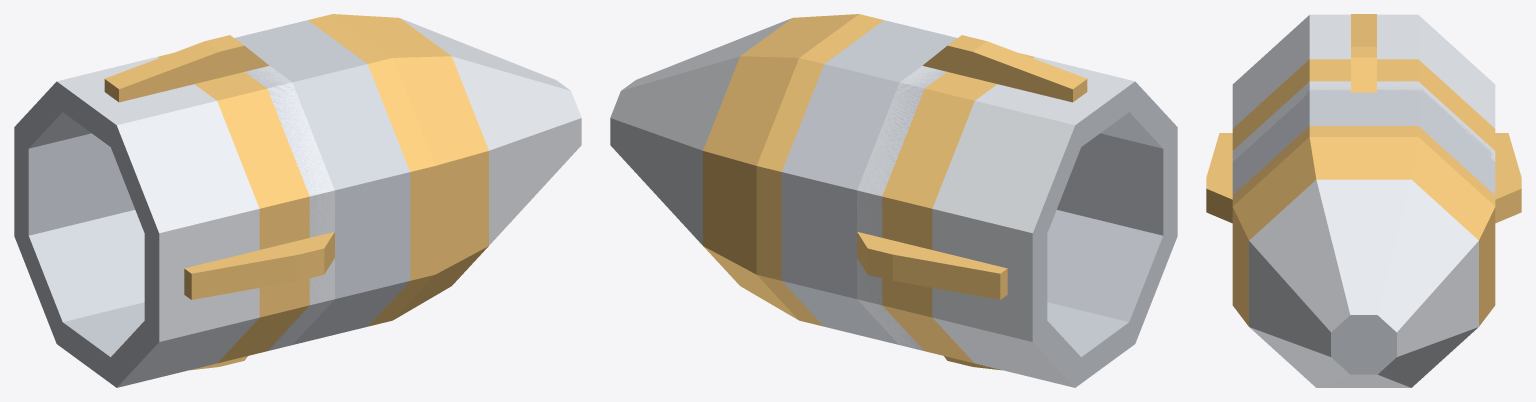
Rendered from spread-option.glb.
The picture shows the model from 3 angles, left to right: view 1: azimuth 30°, elevation 25°; view 2: azimuth 150°, elevation 25°; view 3: azimuth 270°, elevation 25°; orthographic projection. The views are drawn at different scales.
Parts seen in each view (by area): view 1: rocket_finsB, rocket_fuelA, rocket_topA; view 2: rocket_finsB, rocket_fuelA, rocket_topA; view 3: rocket_topA, rocket_finsB, rocket_fuelA.
Boxes of the visible parts, x1=… form: rocket_finsB: x1=14, y1=35, x2=334, y2=387; rocket_fuelA: x1=234, y1=14, x2=435, y2=350; rocket_topA: x1=333, y1=14, x2=581, y2=319; rocket_finsB: x1=857, y1=35, x2=1177, y2=387; rocket_fuelA: x1=756, y1=14, x2=957, y2=350; rocket_topA: x1=610, y1=14, x2=858, y2=319; rocket_topA: x1=1232, y1=137, x2=1495, y2=387; rocket_finsB: x1=1206, y1=14, x2=1521, y2=223; rocket_fuelA: x1=1232, y1=87, x2=1495, y2=206.
Size of the model in its own units: 4 by 2.53 by 2.53.
